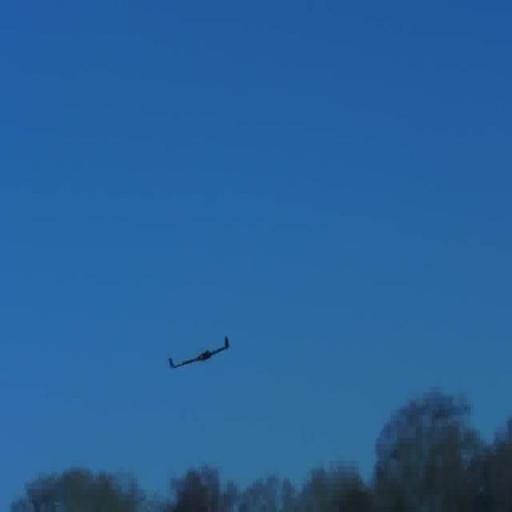uav: (167, 328, 235, 378)
